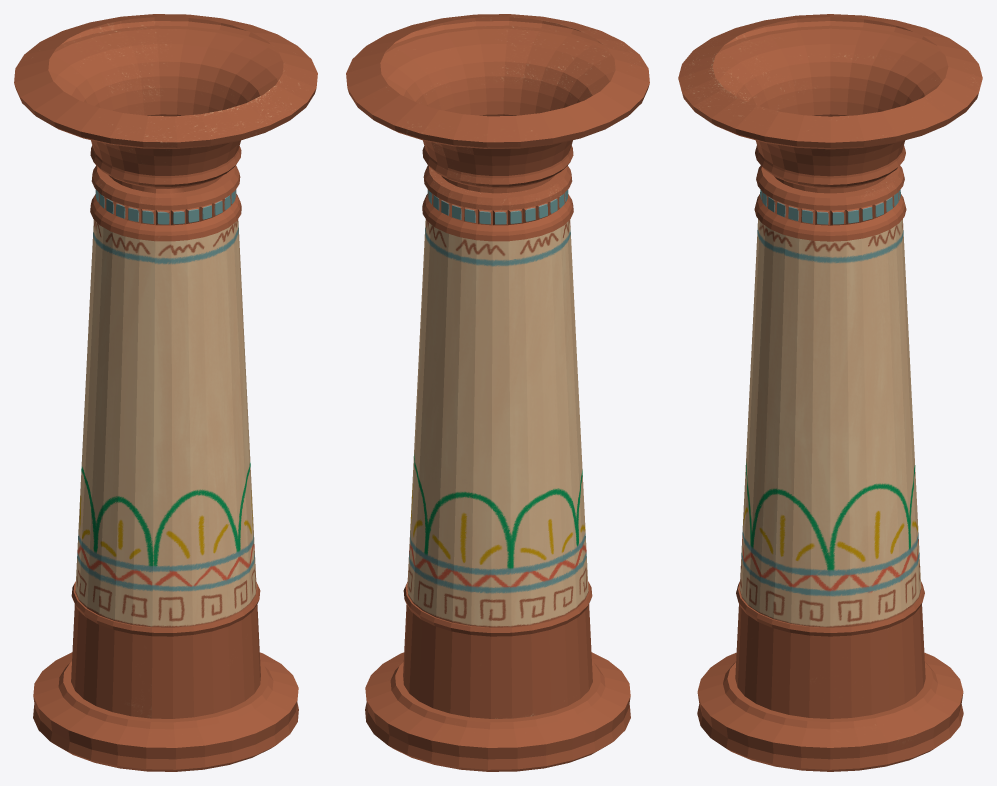
The model's file is Kolumna.fbx.
3 views of the same model, side by side, from view 1: azimuth 30°, elevation 25°; view 2: azimuth 150°, elevation 25°; view 3: azimuth 270°, elevation 25° (orthographic).
Parts seen in each view (by area): view 1: Cylinder041, Cylinder042, Cylinder040; view 2: Cylinder041, Cylinder042, Cylinder040; view 3: Cylinder041, Cylinder042, Cylinder040.
Boxes of the visible parts, x1,y1,x2,y2 form: Cylinder041: (71, 219, 260, 718); Cylinder042: (14, 14, 317, 241); Cylinder040: (33, 652, 298, 771); Cylinder041: (403, 219, 592, 718); Cylinder042: (346, 14, 649, 241); Cylinder040: (365, 652, 630, 771); Cylinder041: (735, 219, 925, 718); Cylinder042: (678, 14, 982, 241); Cylinder040: (697, 652, 963, 771).
Size of the model in its own units: 122 by 122 by 289.
